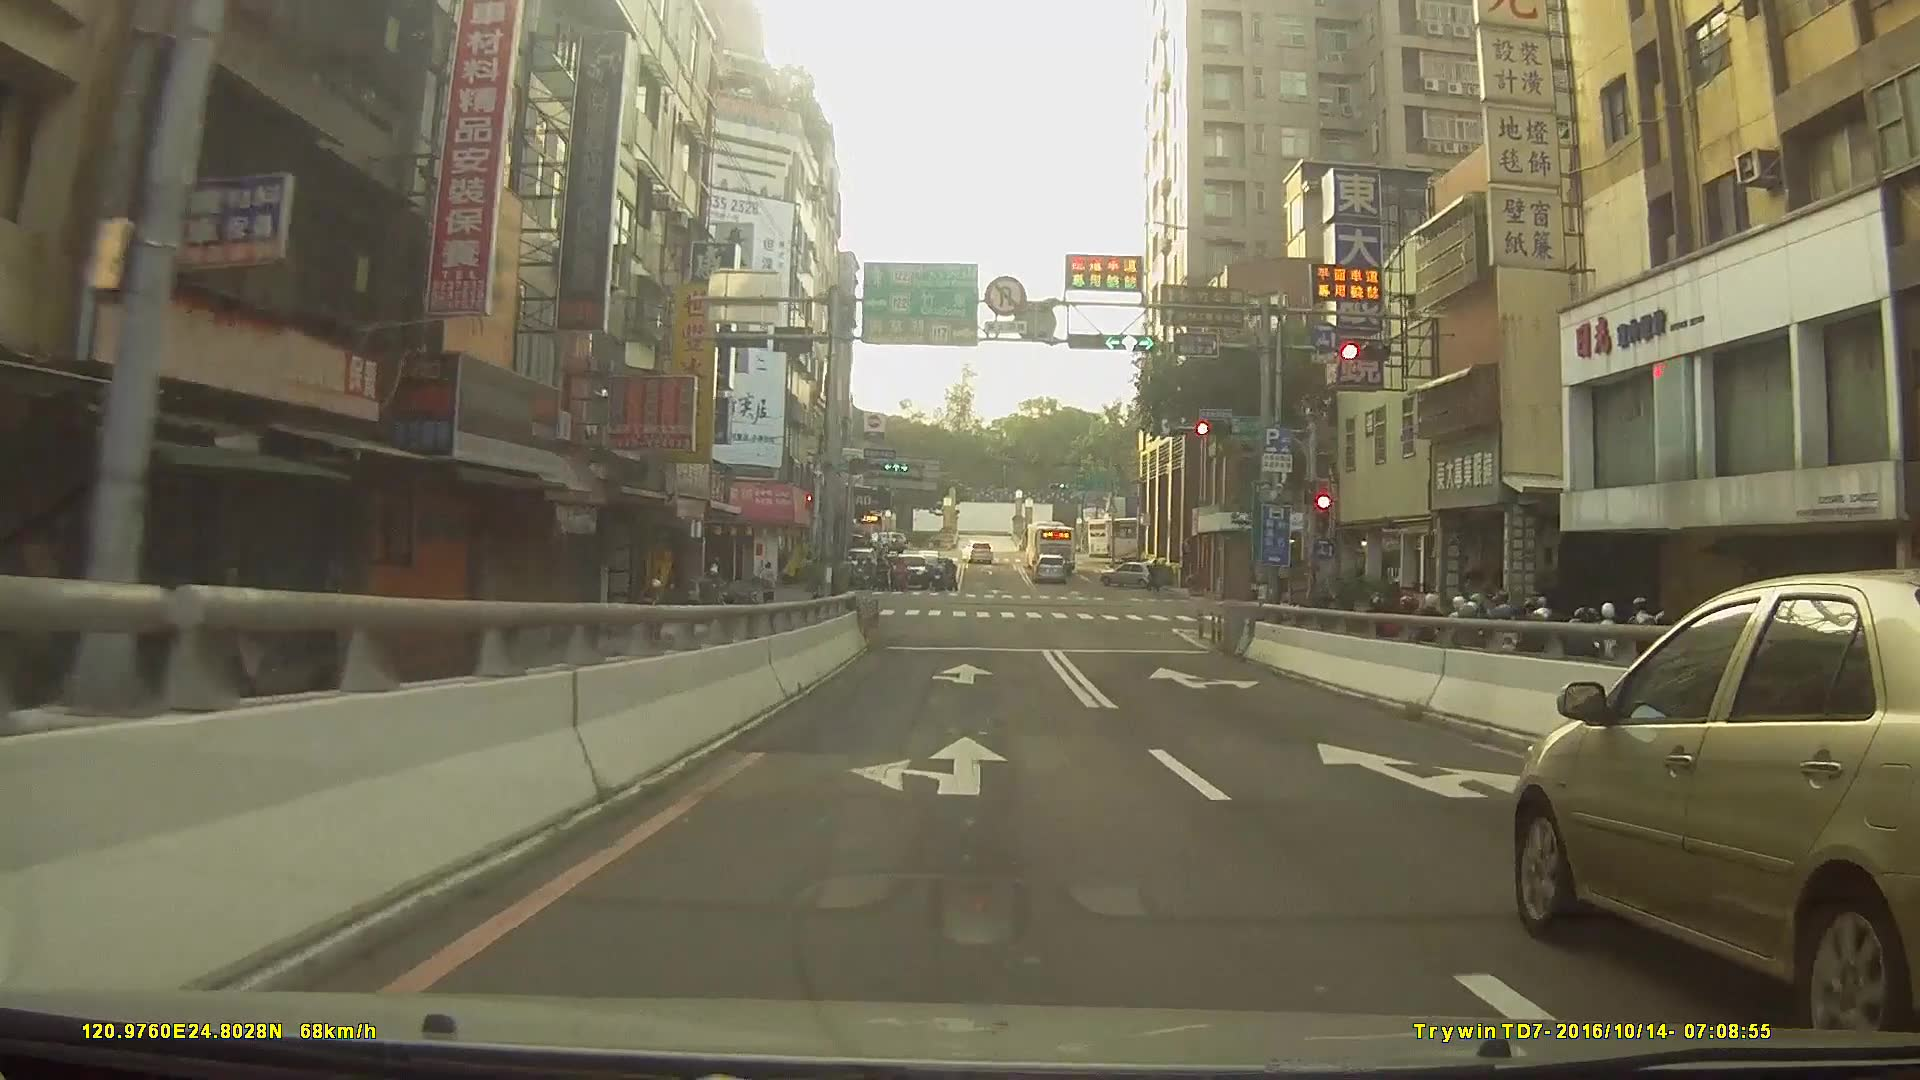rider: (640, 575, 677, 653)
vehicle: (1513, 566, 1920, 1040), (1086, 516, 1170, 563), (1097, 559, 1170, 591), (1026, 518, 1074, 566), (887, 555, 930, 591), (1032, 550, 1068, 581), (864, 527, 909, 550), (959, 538, 992, 563)
